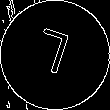L_S: (33, 26, 77, 84)
